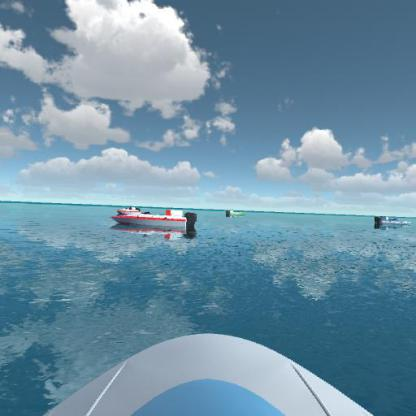usv0: (223, 205, 249, 222)
usv1: (371, 209, 412, 234)
usv3: (109, 207, 199, 242), (114, 201, 144, 215)
